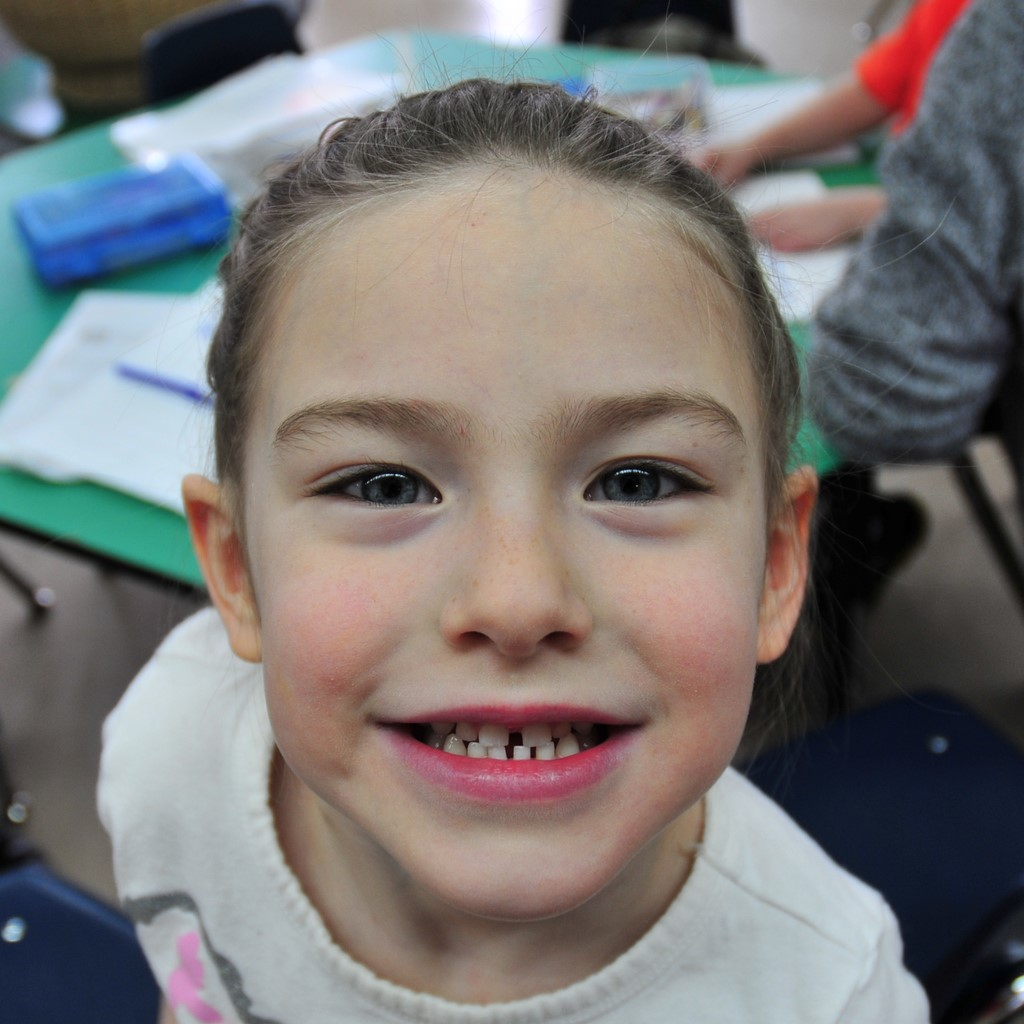sin_mascara: (228, 149, 776, 939)
